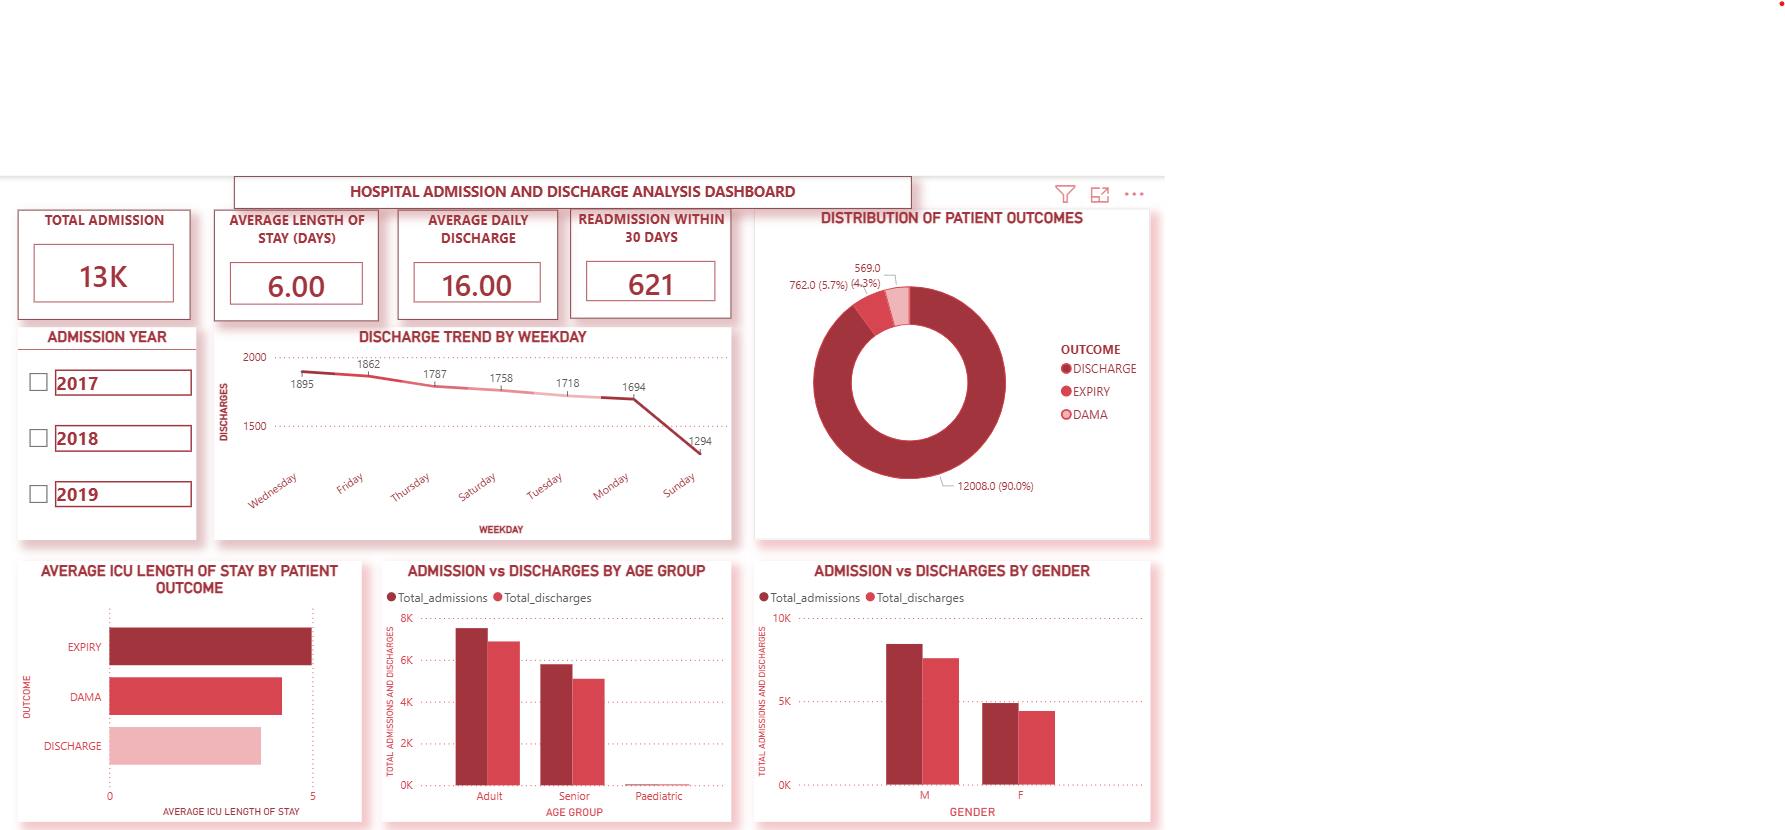

Layout of this report page (visuals, bound fields, positions):
{"tool":"powerbi","page":{"name":"Page 1","canvas":[1280,720],"ordinal":0},"visuals":[{"type":"cardVisual","title":"TOTAL ADMISSION","fields":{"Data":["hospital_data.Total_admissions"]},"box":[20.6,37,189.4,120.8],"z":0},{"type":"cardVisual","title":"READMISSION WITHIN 30 DAYS ","fields":{"Data":["hospital_data.Readmission_30count"]},"box":[627.1,35.7,177,120.8],"z":1000},{"type":"cardVisual","title":"AVERAGE DAILY DISCHARGE","fields":{"Data":["hospital_data.Avg_daily_discharge"]},"box":[437.7,37,175.6,120.8],"z":2000},{"type":"lineChart","title":"DISCHARGE TREND BY WEEKDAY","fields":{"Category":["hospital_data.WEEK_DAY_NAME"],"Y":["hospital_data.Total_discharges"]},"box":[236,166,568.1,233.3],"z":3000},{"type":"clusteredColumnChart","title":"ADMISSION vs DISCHARGES BY AGE GROUP","fields":{"Category":["hospital_data.Age_Group"],"Y":["hospital_data.Total_admissions","hospital_data.Total_discharges"]},"box":[419.9,422.6,384.2,286.8],"z":4000},{"type":"clusteredColumnChart","title":"ADMISSION vs DISCHARGES BY GENDER","fields":{"Category":["hospital_data.GENDER"],"Y":["hospital_data.Total_admissions","hospital_data.Total_discharges"]},"box":[828.8,422.6,435,286.8],"z":5000},{"type":"cardVisual","title":"AVERAGE LENGTH OF STAY (DAYS)","fields":{"Data":["hospital_data.Avg_los"]},"box":[236,37,181.1,122.1],"z":6000},{"type":"slicer","title":"ADMISSION YEAR","fields":{"Values":["hospital_data.Admission_year"]},"box":[20.6,166,196.2,233.3],"z":7000},{"type":"donutChart","title":"DISTRIBUTION OF PATIENT OUTCOMES","fields":{"Category":["hospital_data.OUTCOME"],"Y":["hospital_data.Total_admissions"]},"box":[828.8,35.7,435,363.6],"z":8000},{"type":"clusteredBarChart","title":"AVERAGE ICU LENGTH OF STAY BY PATIENT OUTCOME","fields":{"Category":["hospital_data.OUTCOME"],"Y":["Avg(hospital_data.duration of intensive unit stay)"]},"box":[20.6,422.6,377.4,286.8],"z":9000},{"type":"textbox","box":[258,0,743.7,35.7],"z":10000}]}

Visuals, with their boxes on the page's 1280x720 design canvas (x1, y1, x2, y2). These are canvas units, not pixel positions in the 1785x830 screenshot, which may show the page scaled, cropped or inside an application window:
"TOTAL ADMISSION" cardVisual: crop(21, 37, 210, 158)
"READMISSION WITHIN 30 DAYS " cardVisual: crop(627, 36, 804, 156)
"AVERAGE DAILY DISCHARGE" cardVisual: crop(438, 37, 613, 158)
"DISCHARGE TREND BY WEEKDAY" lineChart: crop(236, 166, 804, 399)
"ADMISSION vs DISCHARGES BY AGE GROUP" clusteredColumnChart: crop(420, 423, 804, 709)
"ADMISSION vs DISCHARGES BY GENDER" clusteredColumnChart: crop(829, 423, 1264, 709)
"AVERAGE LENGTH OF STAY (DAYS)" cardVisual: crop(236, 37, 417, 159)
"ADMISSION YEAR" slicer: crop(21, 166, 217, 399)
"DISTRIBUTION OF PATIENT OUTCOMES" donutChart: crop(829, 36, 1264, 399)
"AVERAGE ICU LENGTH OF STAY BY PATIENT OUTCOME" clusteredBarChart: crop(21, 423, 398, 709)
textbox: crop(258, 0, 1002, 36)
